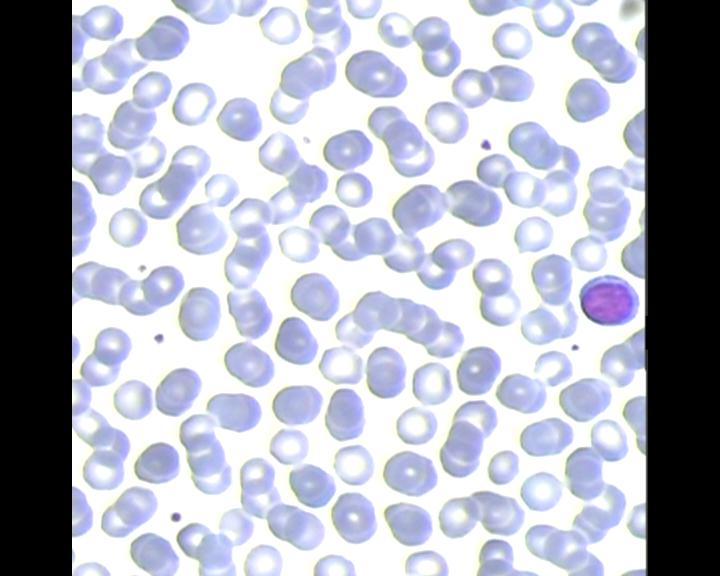lymp: (574, 267, 645, 334)
